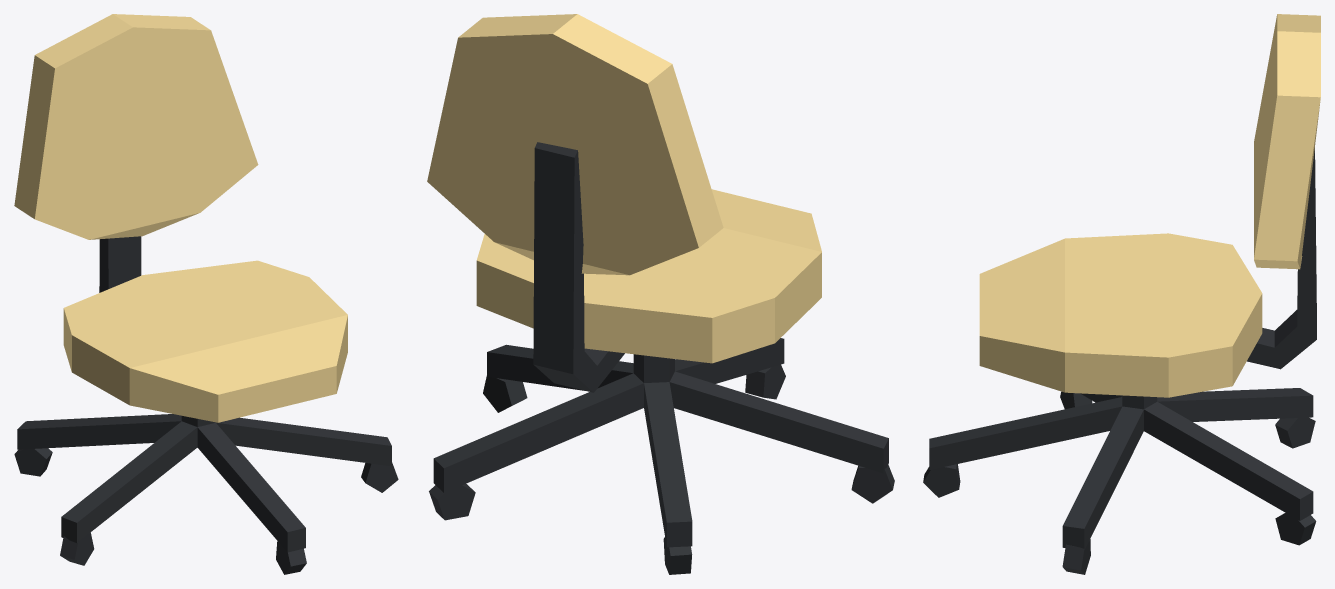
File: swivel.glb
3 renders of one model, left to right at view 1: azimuth 30°, elevation 25°; view 2: azimuth 150°, elevation 25°; view 3: azimuth 270°, elevation 25°, orthographic. The views are drawn at different scales.
Visible parts, largest first — view 1: Regular, Base Wheels; view 2: Regular, Base Wheels; view 3: Regular, Base Wheels.
Part boxes in pixels (bbox=[...]): Regular: bbox=[14, 14, 347, 422]; Base Wheels: bbox=[14, 414, 398, 574]; Regular: bbox=[427, 14, 821, 392]; Base Wheels: bbox=[429, 338, 894, 574]; Regular: bbox=[979, 14, 1320, 397]; Base Wheels: bbox=[923, 388, 1316, 574].
Size of the model in its own units: 4.31 by 5.29 by 4.12.
1 material, 1 textured.
